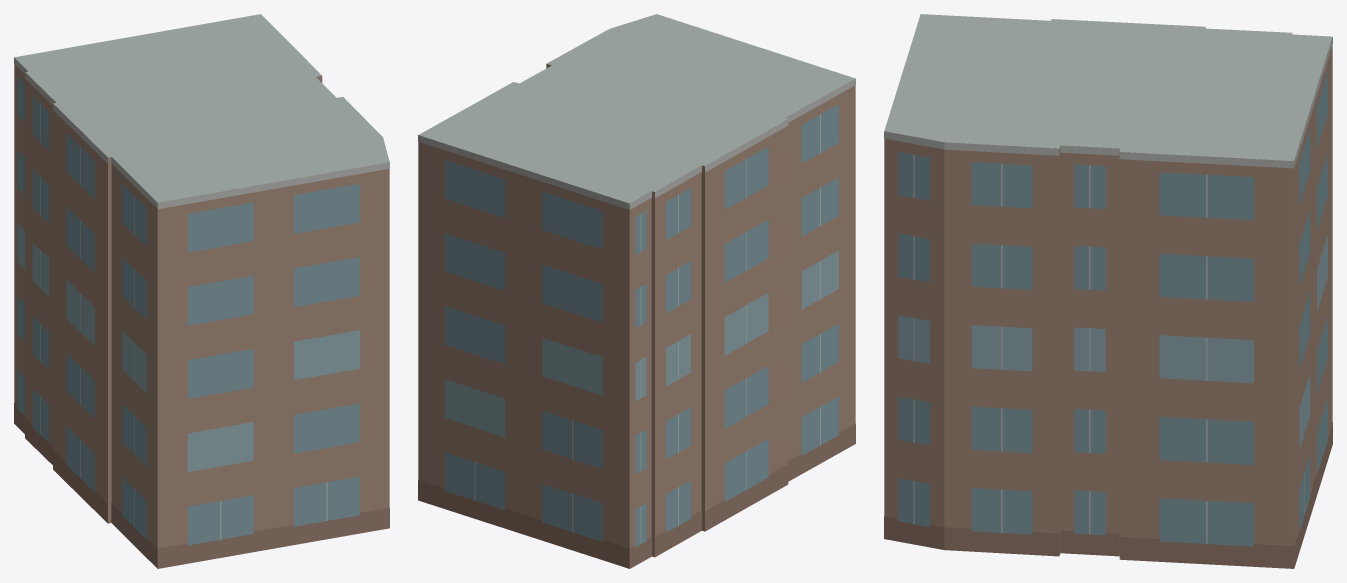
Rendered from survey-upis-32669977.glb.
The picture shows the model from 3 angles, left to right: view 1: azimuth 30°, elevation 25°; view 2: azimuth 150°, elevation 25°; view 3: azimuth 270°, elevation 25°; orthographic projection. The views are drawn at different scales.
Parts seen in each view (by area): view 1: survey-upis-32669977.tmp; view 2: survey-upis-32669977.tmp; view 3: survey-upis-32669977.tmp.
Boxes of the visible parts, x1,y1,x2,y2 form: survey-upis-32669977.tmp: (14, 14, 389, 568); survey-upis-32669977.tmp: (418, 14, 855, 568); survey-upis-32669977.tmp: (884, 14, 1332, 568).
Size of the model in its own units: 10.61 by 13.7 by 13.67.
